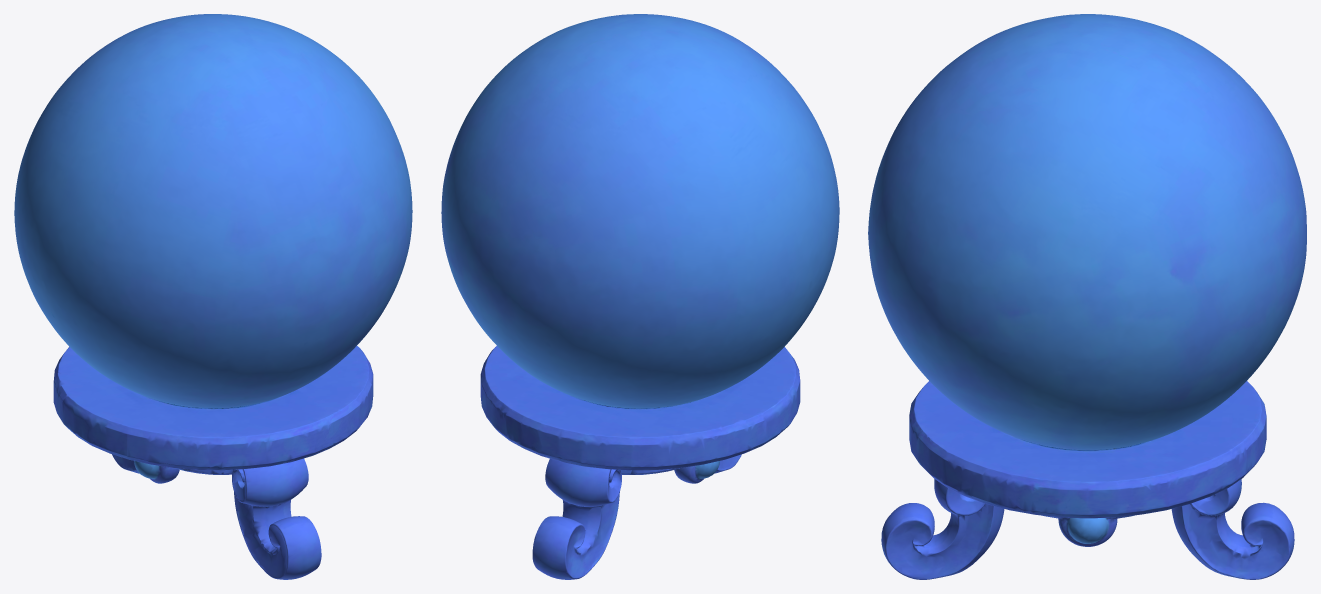
The model's file is fortuneteller.glb.
The picture shows the model from 3 angles, left to right: view 1: azimuth 30°, elevation 25°; view 2: azimuth 150°, elevation 25°; view 3: azimuth 270°, elevation 25°; orthographic projection. The views are drawn at different scales.
Parts seen in each view (by area): view 1: tripo_node_addcc989-f4a9-4def-b989-571812b4c8e7; view 2: tripo_node_addcc989-f4a9-4def-b989-571812b4c8e7; view 3: tripo_node_addcc989-f4a9-4def-b989-571812b4c8e7.
Boxes of the visible parts, x1,y1,x2,y2 form: tripo_node_addcc989-f4a9-4def-b989-571812b4c8e7: [14, 14, 412, 579]; tripo_node_addcc989-f4a9-4def-b989-571812b4c8e7: [441, 14, 839, 579]; tripo_node_addcc989-f4a9-4def-b989-571812b4c8e7: [868, 14, 1306, 579].
Bounding box in the file's own units: 0.7232 × 0.9798 × 0.72.
1 material, 1 textured.
